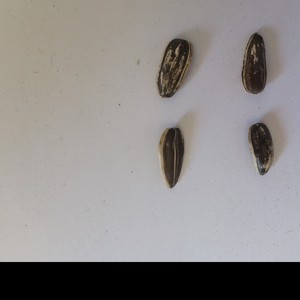girasol: (154, 36, 191, 100), (156, 125, 188, 191), (238, 30, 269, 97), (245, 121, 275, 181)
